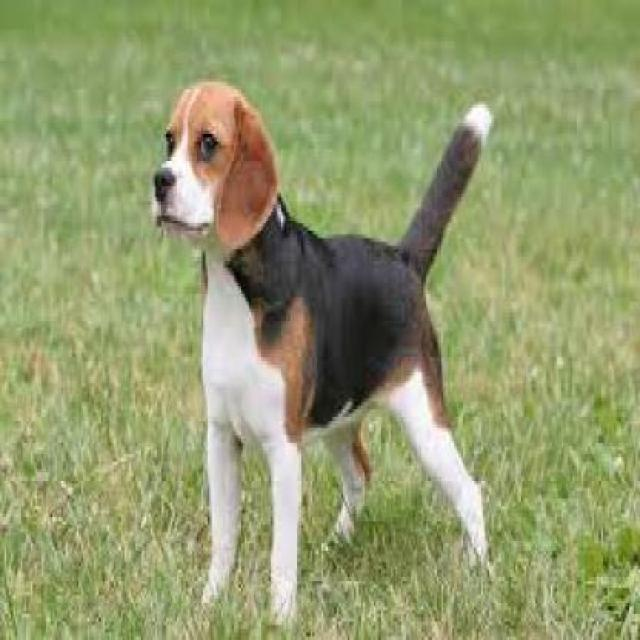Dog: (148, 79, 494, 626)
